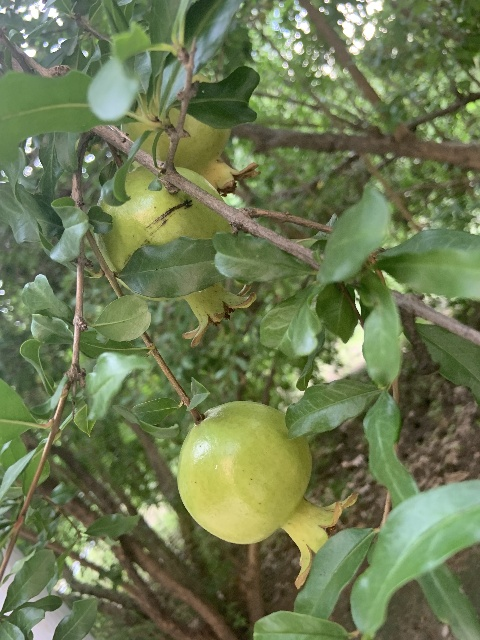mid-growth: (177, 400, 357, 588), (94, 166, 256, 347), (121, 71, 260, 198)
